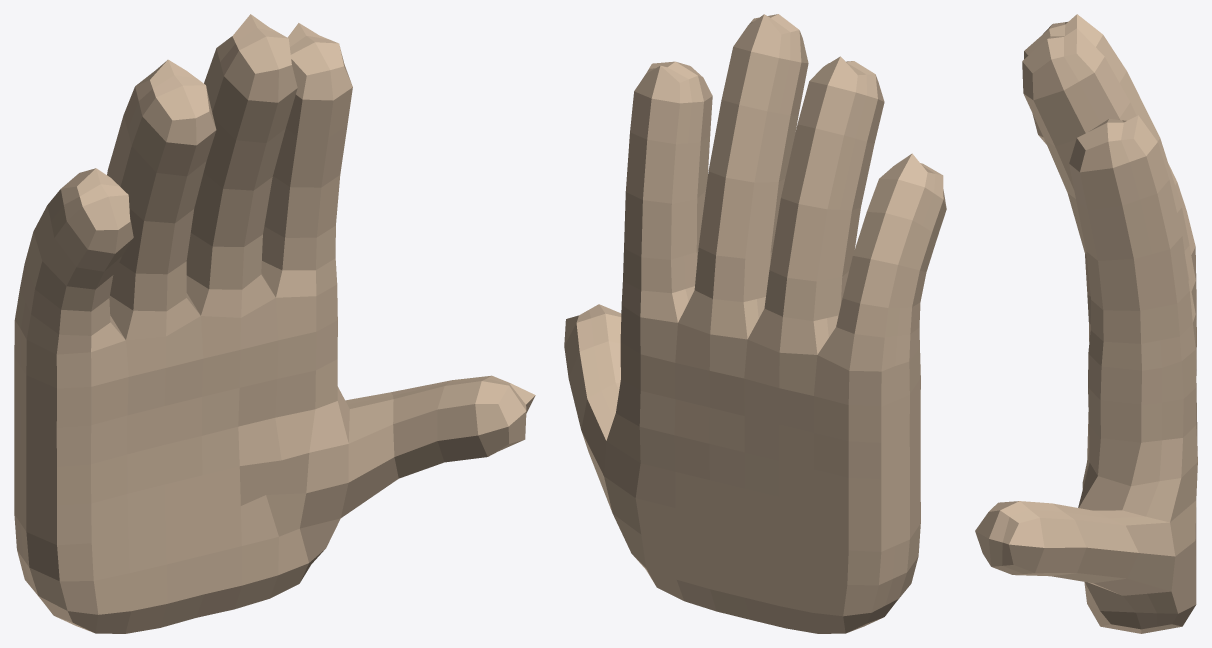
The picture shows the model from 3 angles, left to right: view 1: azimuth 30°, elevation 25°; view 2: azimuth 150°, elevation 25°; view 3: azimuth 270°, elevation 25°; orthographic projection. The views are drawn at different scales.
Visible parts, largest first — view 1: Cube; view 2: Cube; view 3: Cube.
Part boxes in pixels (box(x1,y1,x2,y2)): Cube: box(14, 14, 535, 633); Cube: box(564, 14, 946, 633); Cube: box(975, 14, 1197, 633).
Bounding box in the file's own units: 97.25 × 129 × 44.42.
